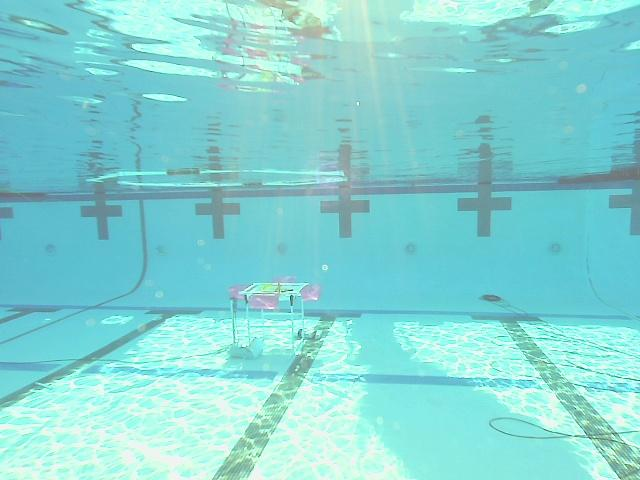table: (227, 275, 323, 359)
